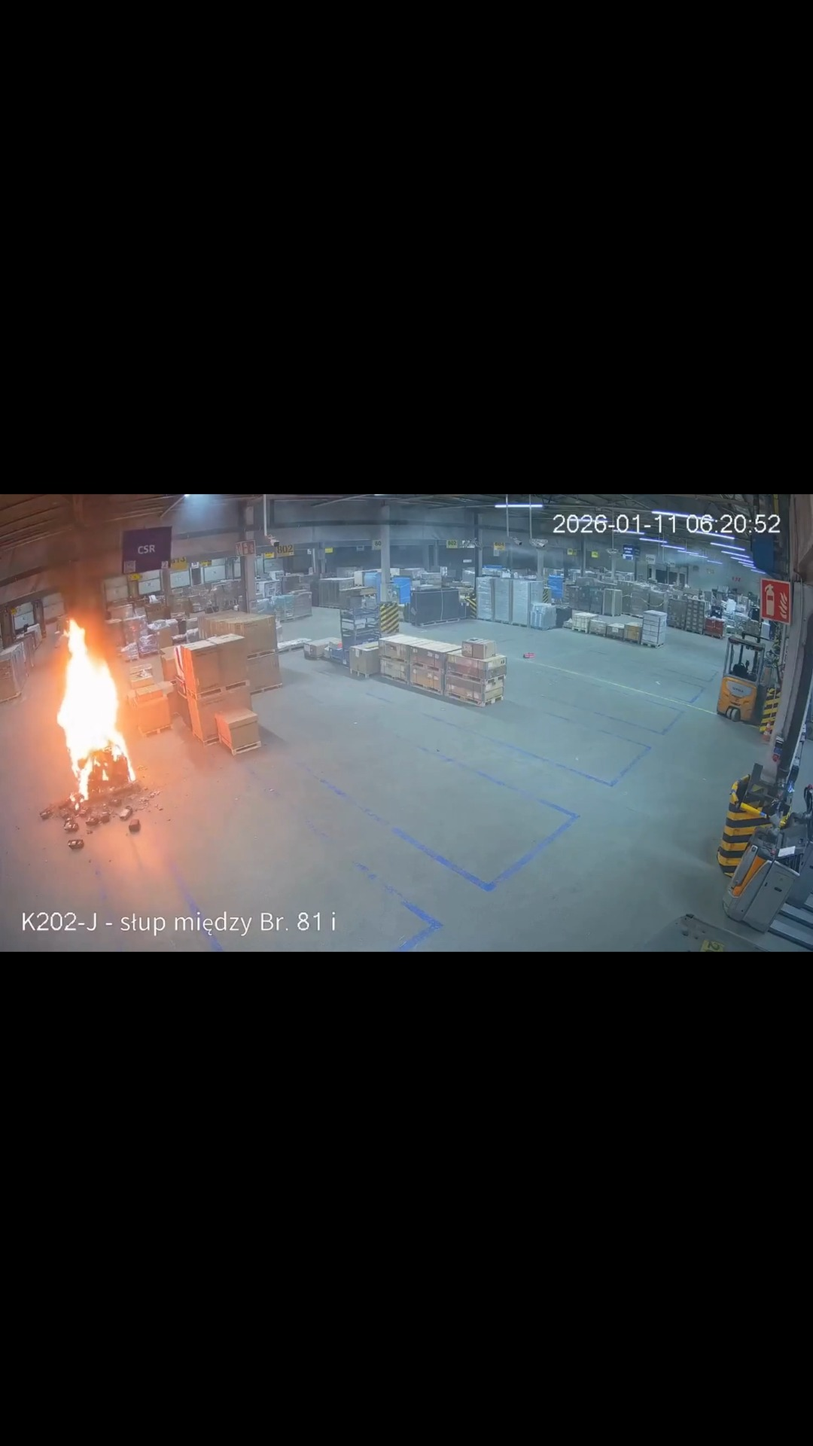fire: (56, 615, 138, 811)
smoke: (47, 497, 139, 642)
